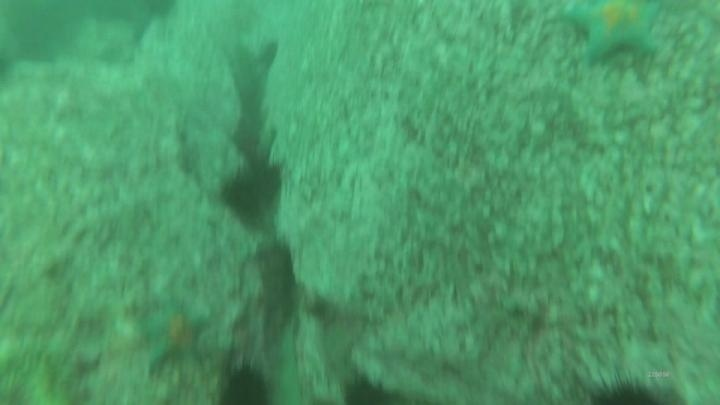echinus: (579, 367, 683, 404), (219, 164, 282, 223), (215, 359, 275, 405), (336, 371, 405, 404), (254, 38, 282, 71)
starfish: (559, 1, 666, 69), (137, 297, 214, 376)
